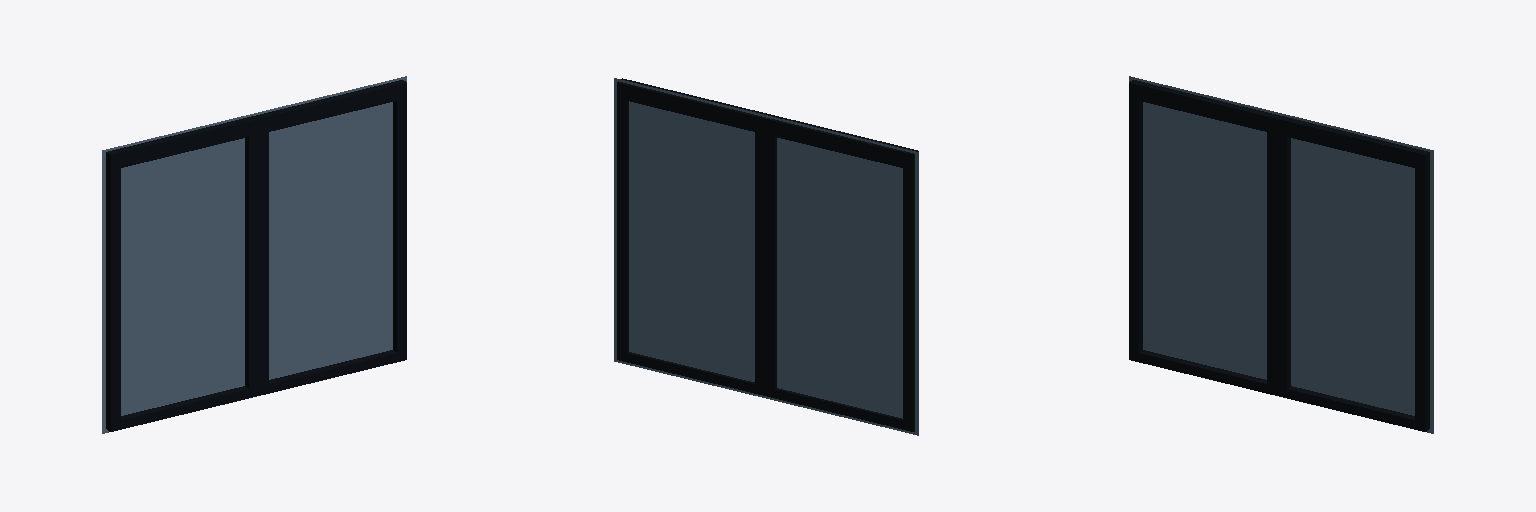
Rendered from chuang8.obj.
3 renders of one model, left to right at view 1: azimuth 30°, elevation 25°; view 2: azimuth 150°, elevation 25°; view 3: azimuth 330°, elevation 25°, orthographic.
Visible parts, largest first — view 1: Rectangle030, Rectangle029; view 2: Rectangle030, Rectangle029; view 3: Rectangle030, Rectangle029.
Part boxes in pixels (x1,y1,x2,y2): Rectangle030: (102, 76, 406, 433); Rectangle029: (106, 80, 406, 431); Rectangle030: (614, 78, 918, 435); Rectangle029: (617, 78, 918, 431); Rectangle030: (1129, 76, 1433, 433); Rectangle029: (1129, 80, 1429, 431).
Bounding box in the file's own units: 18 × 16 × 0.6.